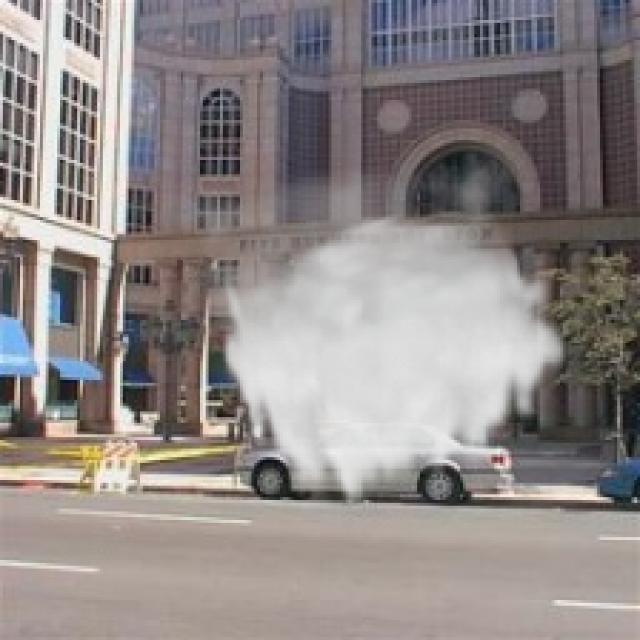Smoke: (146, 142, 572, 514)
